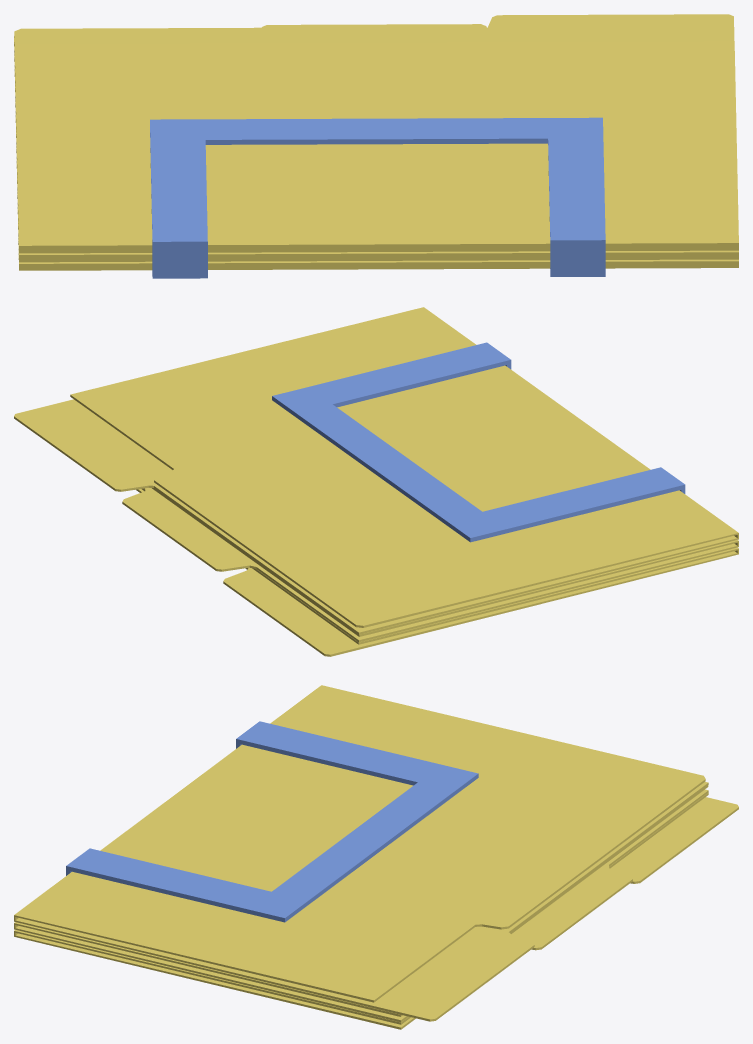
Rendered from Folders.fbx.
3 renders of one model, top to bottom at view 1: azimuth 30°, elevation 25°; view 2: azimuth 150°, elevation 25°; view 3: azimuth 270°, elevation 25°, orthographic. The views are drawn at different scales.
Parts seen in each view (by area): view 1: Plane.016; view 2: Plane.016; view 3: Plane.016.
Part boxes in pixels (x1,y1,x2,y2): Plane.016: (14, 14, 738, 278); Plane.016: (14, 307, 738, 656); Plane.016: (14, 685, 738, 1029).
Bounding box in the file's own units: 0.4794 × 0.0217 × 0.446.
